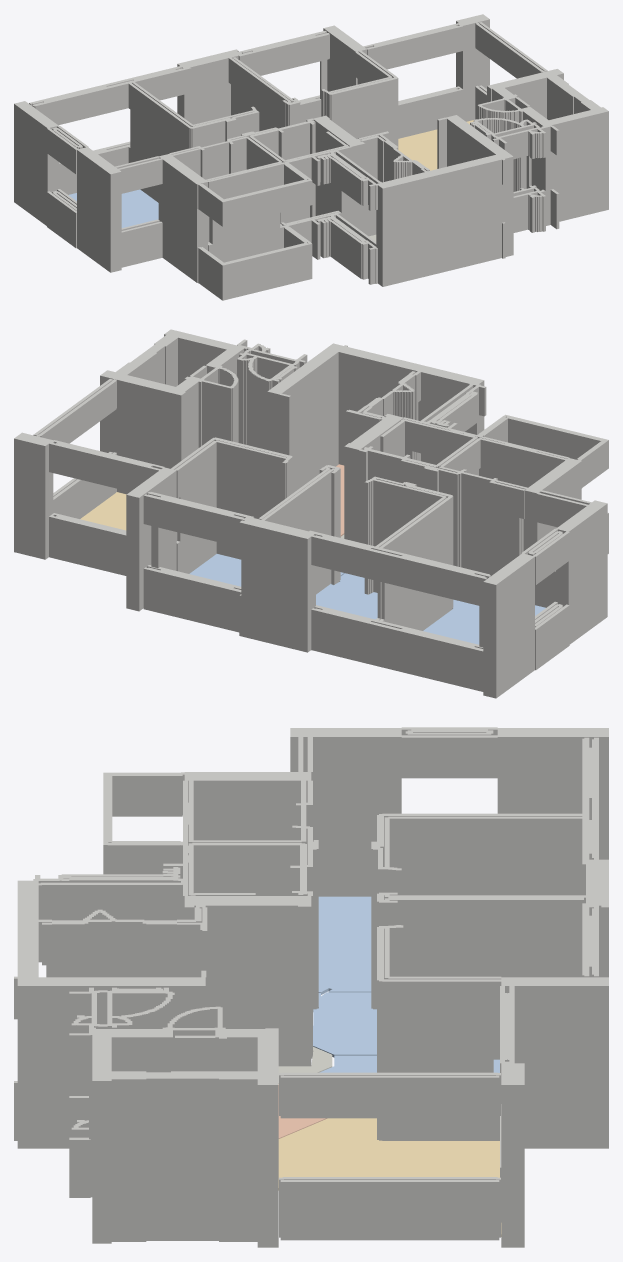
The picture shows the model from 3 angles, top to bottom: view 1: azimuth 30°, elevation 25°; view 2: azimuth 150°, elevation 25°; view 3: azimuth 270°, elevation 25°; orthographic projection. The views are drawn at different scales.
Visible parts, largest first — view 1: walls, room:bedroom:9, room:living:2; view 2: walls, room:bedroom:0, room:bedroom:9, room:bedroom:1, room:living:2; view 3: walls, room:living:2, room:bedroom:9, room:bedroom:0, room:bedroom:1.
Part boxes in pixels (x1,y1,x2,y2): walls: [14, 14, 608, 300]; room:bedroom:9: [68, 189, 158, 227]; room:living:2: [398, 120, 473, 170]; walls: [14, 329, 608, 698]; room:bedroom:0: [316, 573, 377, 619]; room:bedroom:9: [423, 599, 545, 644]; room:bedroom:1: [189, 554, 344, 586]; room:living:2: [80, 492, 126, 530]; walls: [14, 727, 608, 1247]; room:living:2: [278, 1118, 501, 1236]; room:bedroom:9: [318, 896, 371, 994]; room:bedroom:0: [313, 992, 376, 1057]; room:bedroom:1: [319, 1055, 499, 1072].
Bounding box in the file's own units: 13.22 × 2.8 × 9.29.
